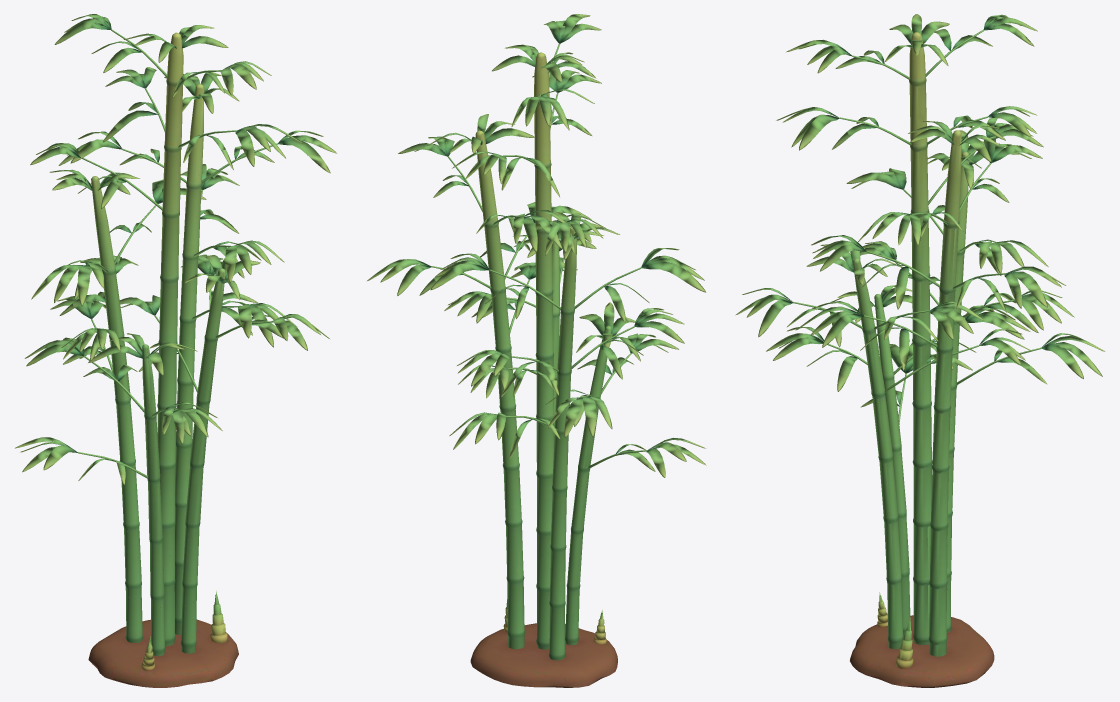
Rendered from bambu.glb.
The picture shows the model from 3 angles, left to right: view 1: azimuth 30°, elevation 25°; view 2: azimuth 150°, elevation 25°; view 3: azimuth 270°, elevation 25°; orthographic projection. The views are drawn at different scales.
Visible parts, largest first — view 1: bamboo-stalk_body; view 2: bamboo-stalk_body; view 3: bamboo-stalk_body.
Boxes of the visible parts, <box> form: bamboo-stalk_body: <box>15,14,336,687</box>; bamboo-stalk_body: <box>367,14,706,687</box>; bamboo-stalk_body: <box>735,14,1104,687</box>.
Bounding box in the file's own units: 1.11 × 2.14 × 1.14.
Materials: 1 (1 with a texture image).
